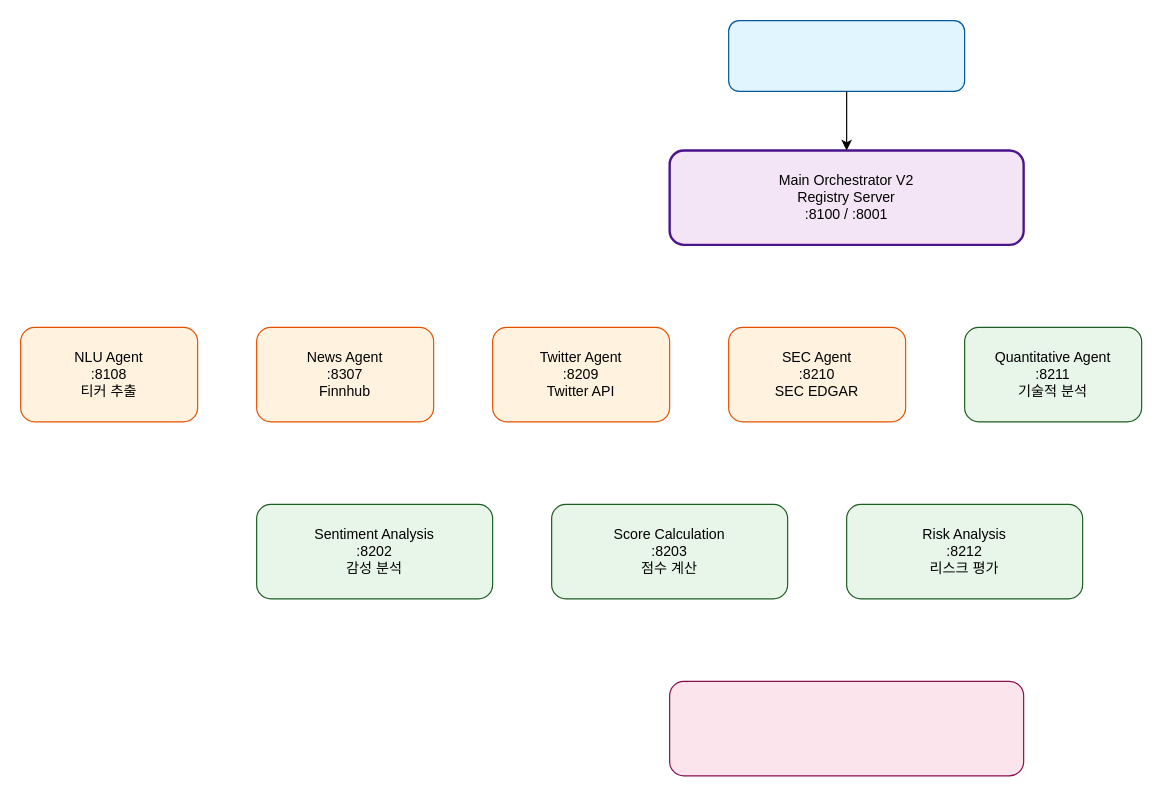
The diagram is 1162 pixels wide and 796 high, and some of its shapes have lost their labels. Each missing label, with the centre of its shape:
"Report Generation :8204 HTML/PDF 생성" belongs at (x=846, y=728).
"Web UI http://localhost:8100" belongs at (x=846, y=55).
